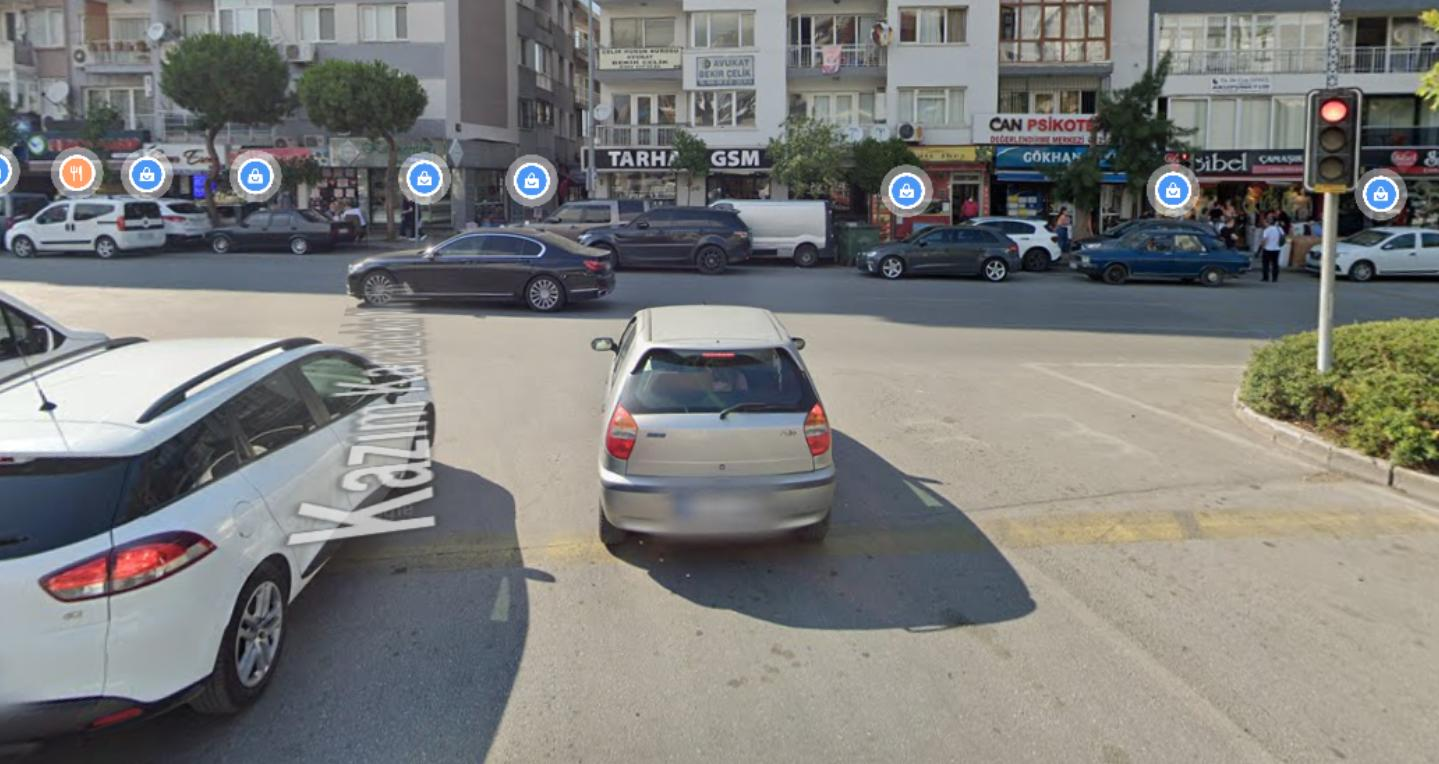redlight: (1308, 92, 1362, 192)
